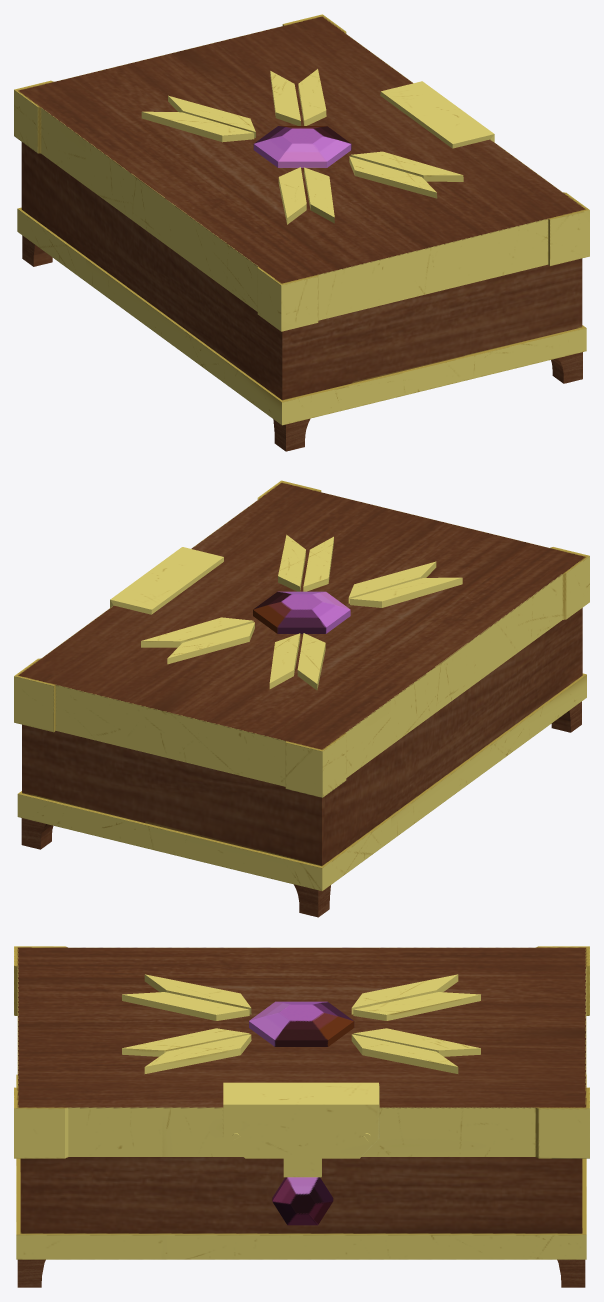
Rendered from Puzzle_Box2.fbx.
The picture shows the model from 3 angles, top to bottom: view 1: azimuth 30°, elevation 25°; view 2: azimuth 150°, elevation 25°; view 3: azimuth 270°, elevation 25°; orthographic projection. The views are drawn at different scales.
Parts seen in each view (by area): view 1: box_top, box_bottom; view 2: box_top, box_bottom; view 3: box_top, box_bottom.
Boxes of the visible parts, x1,y1,x2,y2 form: box_top: [14, 14, 589, 331]; box_bottom: [17, 142, 586, 451]; box_top: [14, 480, 589, 797]; box_bottom: [17, 608, 586, 917]; box_top: [14, 946, 589, 1177]; box_bottom: [16, 1074, 586, 1287].
Bounding box in the file's own units: 20.97 × 11.62 × 30.77.
